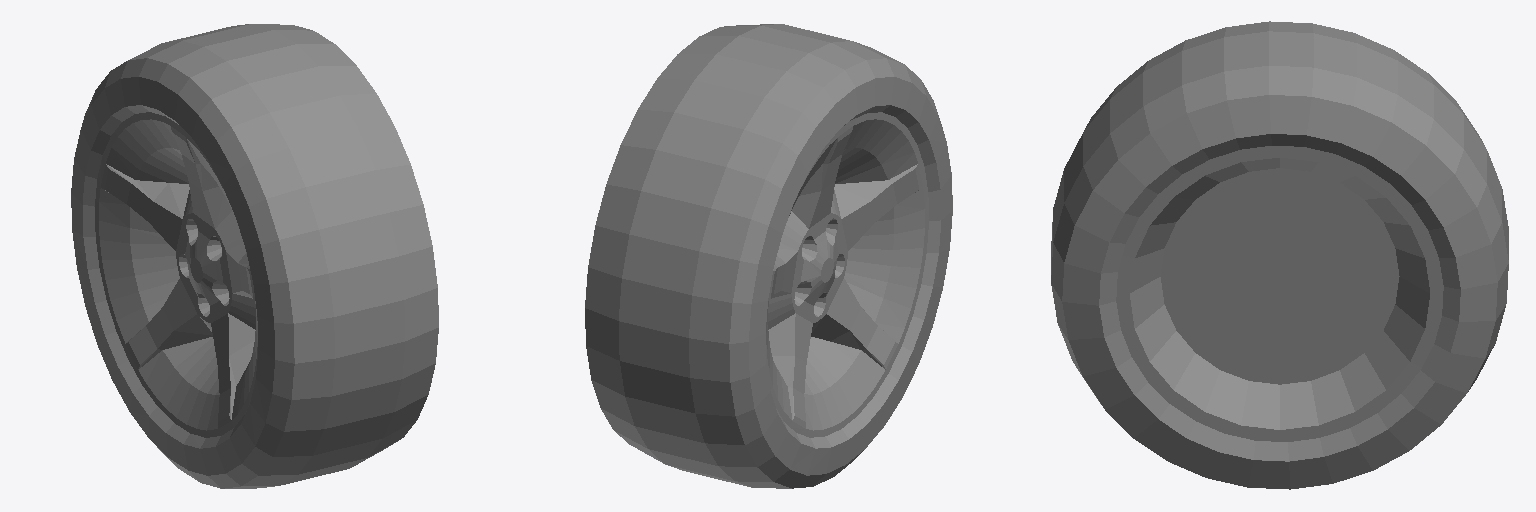
File: Wheel11.obj
3 views of the same model, side by side, from view 1: azimuth 30°, elevation 25°; view 2: azimuth 150°, elevation 25°; view 3: azimuth 270°, elevation 25° (orthographic).
Parts seen in each view (by area): view 1: BTechFix; view 2: BTechFix; view 3: BTechFix.
Boxes of the visible parts, x1=… form: BTechFix: x1=71, y1=24, x2=438, y2=488; BTechFix: x1=585, y1=24, x2=952, y2=488; BTechFix: x1=1051, y1=21, x2=1508, y2=489.
Size of the model in its own units: 35.25 by 81.69 by 81.69.